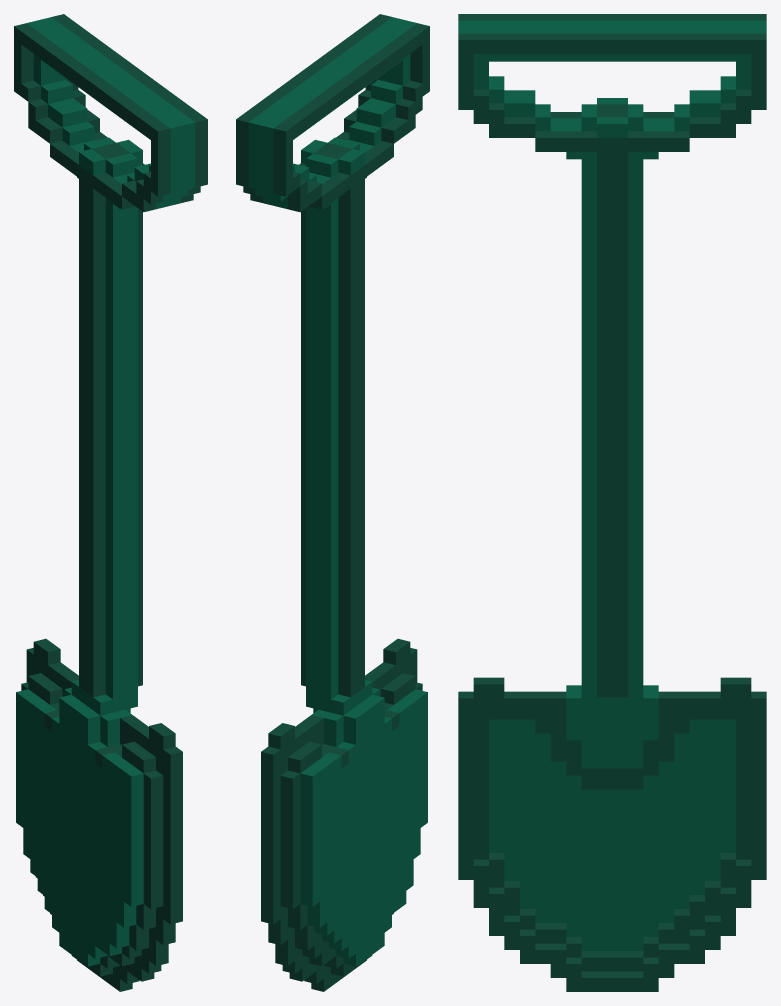
The model's file is Shovel(v1.2.2).obj.
3 views of the same model, side by side, from view 1: azimuth 30°, elevation 25°; view 2: azimuth 150°, elevation 25°; view 3: azimuth 270°, elevation 25° (orthographic). The views are drawn at different scales.
Bounding box in the file's own units: 0.5 × 6.9 × 2.
Materials: 1 (1 with a texture image).
